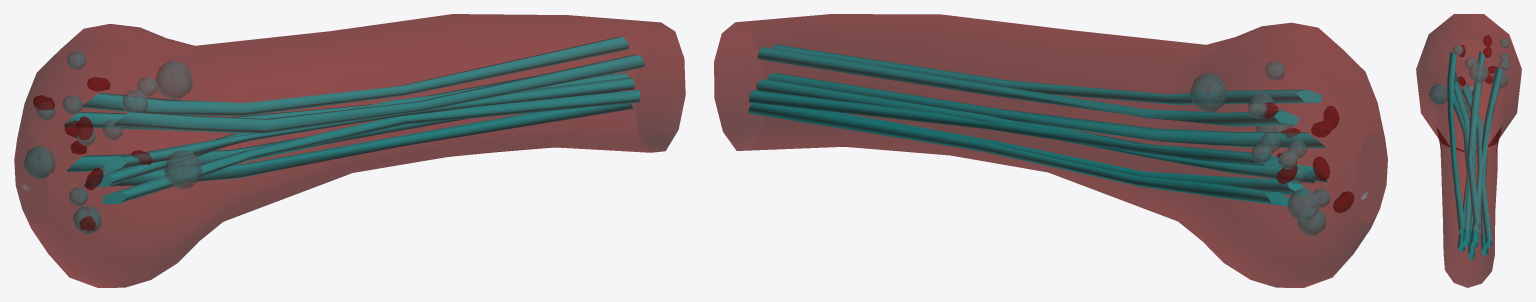
Rendered from synapse.fbx.
3 views of the same model, side by side, from view 1: azimuth 30°, elevation 25°; view 2: azimuth 150°, elevation 25°; view 3: azimuth 270°, elevation 25° (orthographic). The views are drawn at different scales.
Visible parts, largest first — view 1: pCylinder1, pCylinder12, pSphere21, pSphere20, pSphere1, pSphere16, pSphere11; view 2: pCylinder1, pCylinder12, pSphere20, pSphere1, pSphere11; view 3: pCylinder1, pCylinder12, pSphere20, pSphere21, pSphere1, pSphere16, pSphere12, pSphere19, pSphere14.
Boxes of the visible parts, box(x1,y1,x2,y2) form: pCylinder1: box(14, 14, 685, 287); pCylinder12: box(64, 37, 645, 203); pSphere21: box(164, 150, 202, 188); pSphere20: box(155, 61, 192, 99); pSphere1: box(24, 146, 55, 178); pSphere16: box(122, 90, 147, 111); pSphere11: box(73, 206, 101, 233); pCylinder1: box(714, 14, 1387, 287); pCylinder12: box(748, 44, 1327, 206); pSphere20: box(1190, 74, 1227, 112); pSphere1: box(1287, 189, 1319, 221); pSphere11: box(1297, 210, 1325, 235); pCylinder1: box(1416, 14, 1521, 287); pCylinder12: box(1447, 51, 1502, 259); pSphere20: box(1469, 62, 1488, 82); pSphere21: box(1429, 84, 1447, 104); pSphere1: box(1492, 72, 1508, 87); pSphere16: box(1465, 57, 1477, 69); pSphere12: box(1499, 60, 1509, 70); pSphere19: box(1453, 45, 1462, 55); pSphere14: box(1483, 35, 1491, 46).
Size of the model in its own units: 162 by 60.56 by 43.98.
2 materials, 1 textured.
